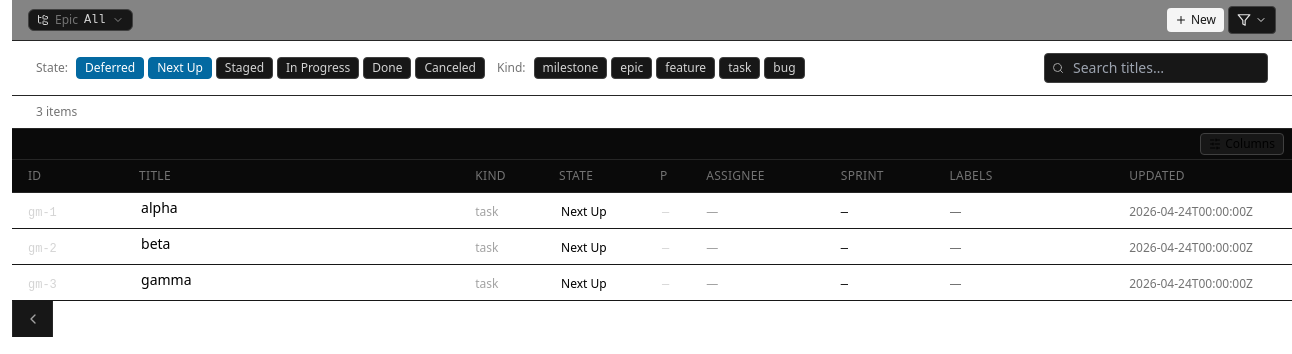
Scenario: BoardPage list mode (gm-e12.19.1) › client-side search narrows by title
Expected: the element with test id "work-item-grid" is shown, 12,129 -> 1291,301
Step 1. Type "be" into the field with test id "board-list-search" → (1156, 68), box 1044,53 -> 1268,83
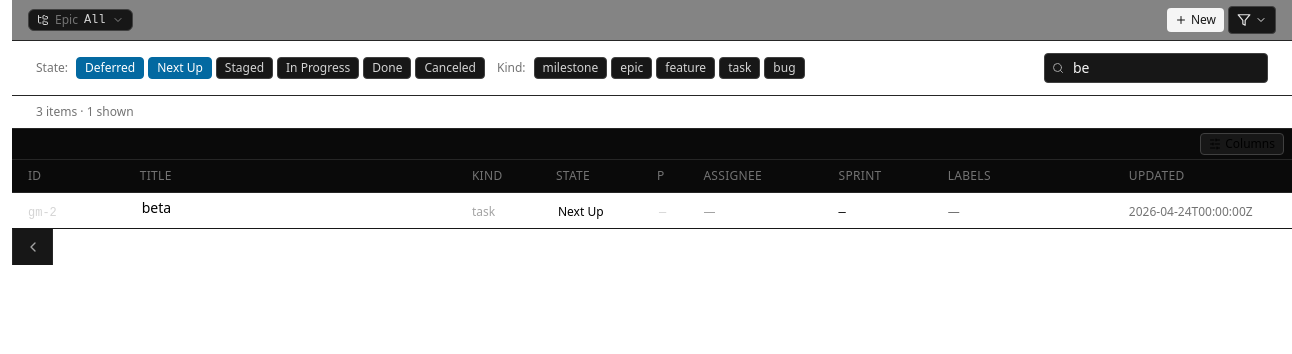
Expected: the row with test id "grid-row-gm-2" is shown, 12,192 -> 1291,228
Expected: the row with test id "grid-row-gm-3" is gone
Expected: the element with test id "board-list-count" reads "3 items · 1 shown", 12,96 -> 1291,129
